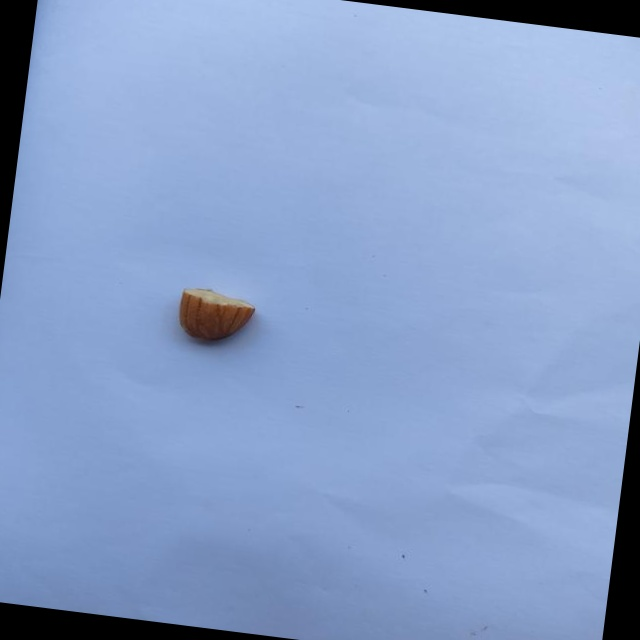grade4: (168, 281, 266, 354)
